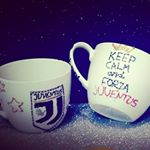cups: (67, 38, 150, 126), (1, 56, 76, 135)
